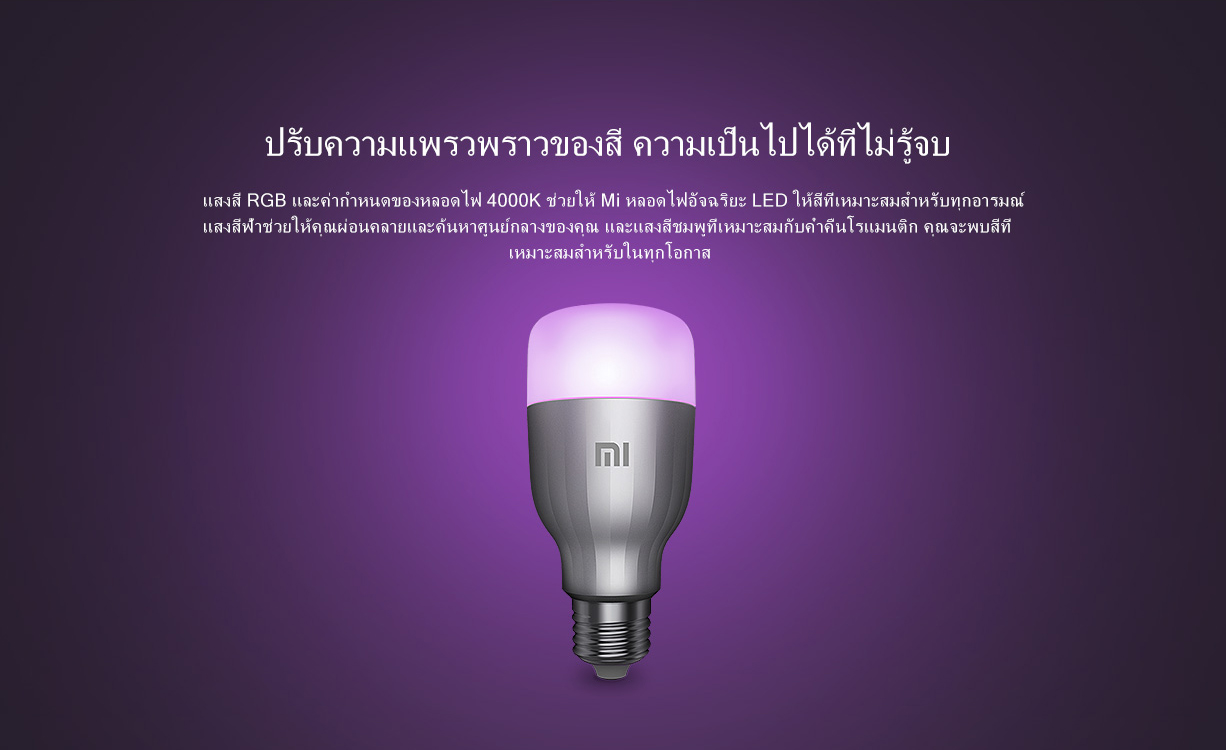Light_bulb: (510, 298, 700, 691)
